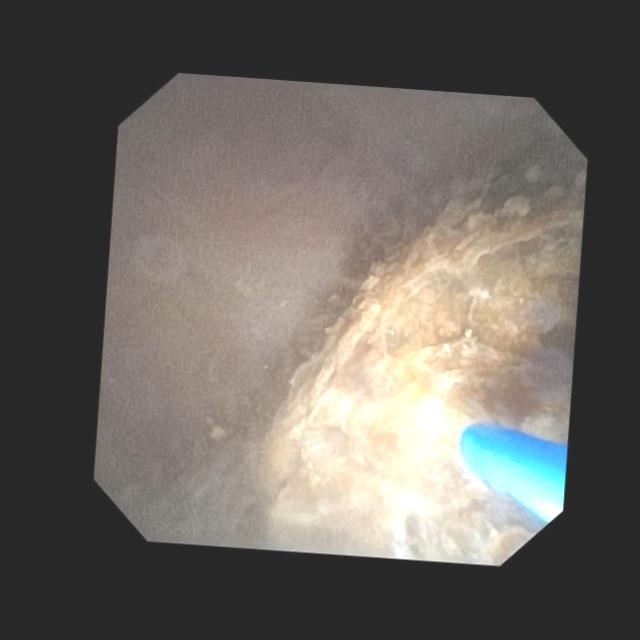laser_dot: (414, 398, 447, 436)
stone-new: (264, 175, 585, 564)
